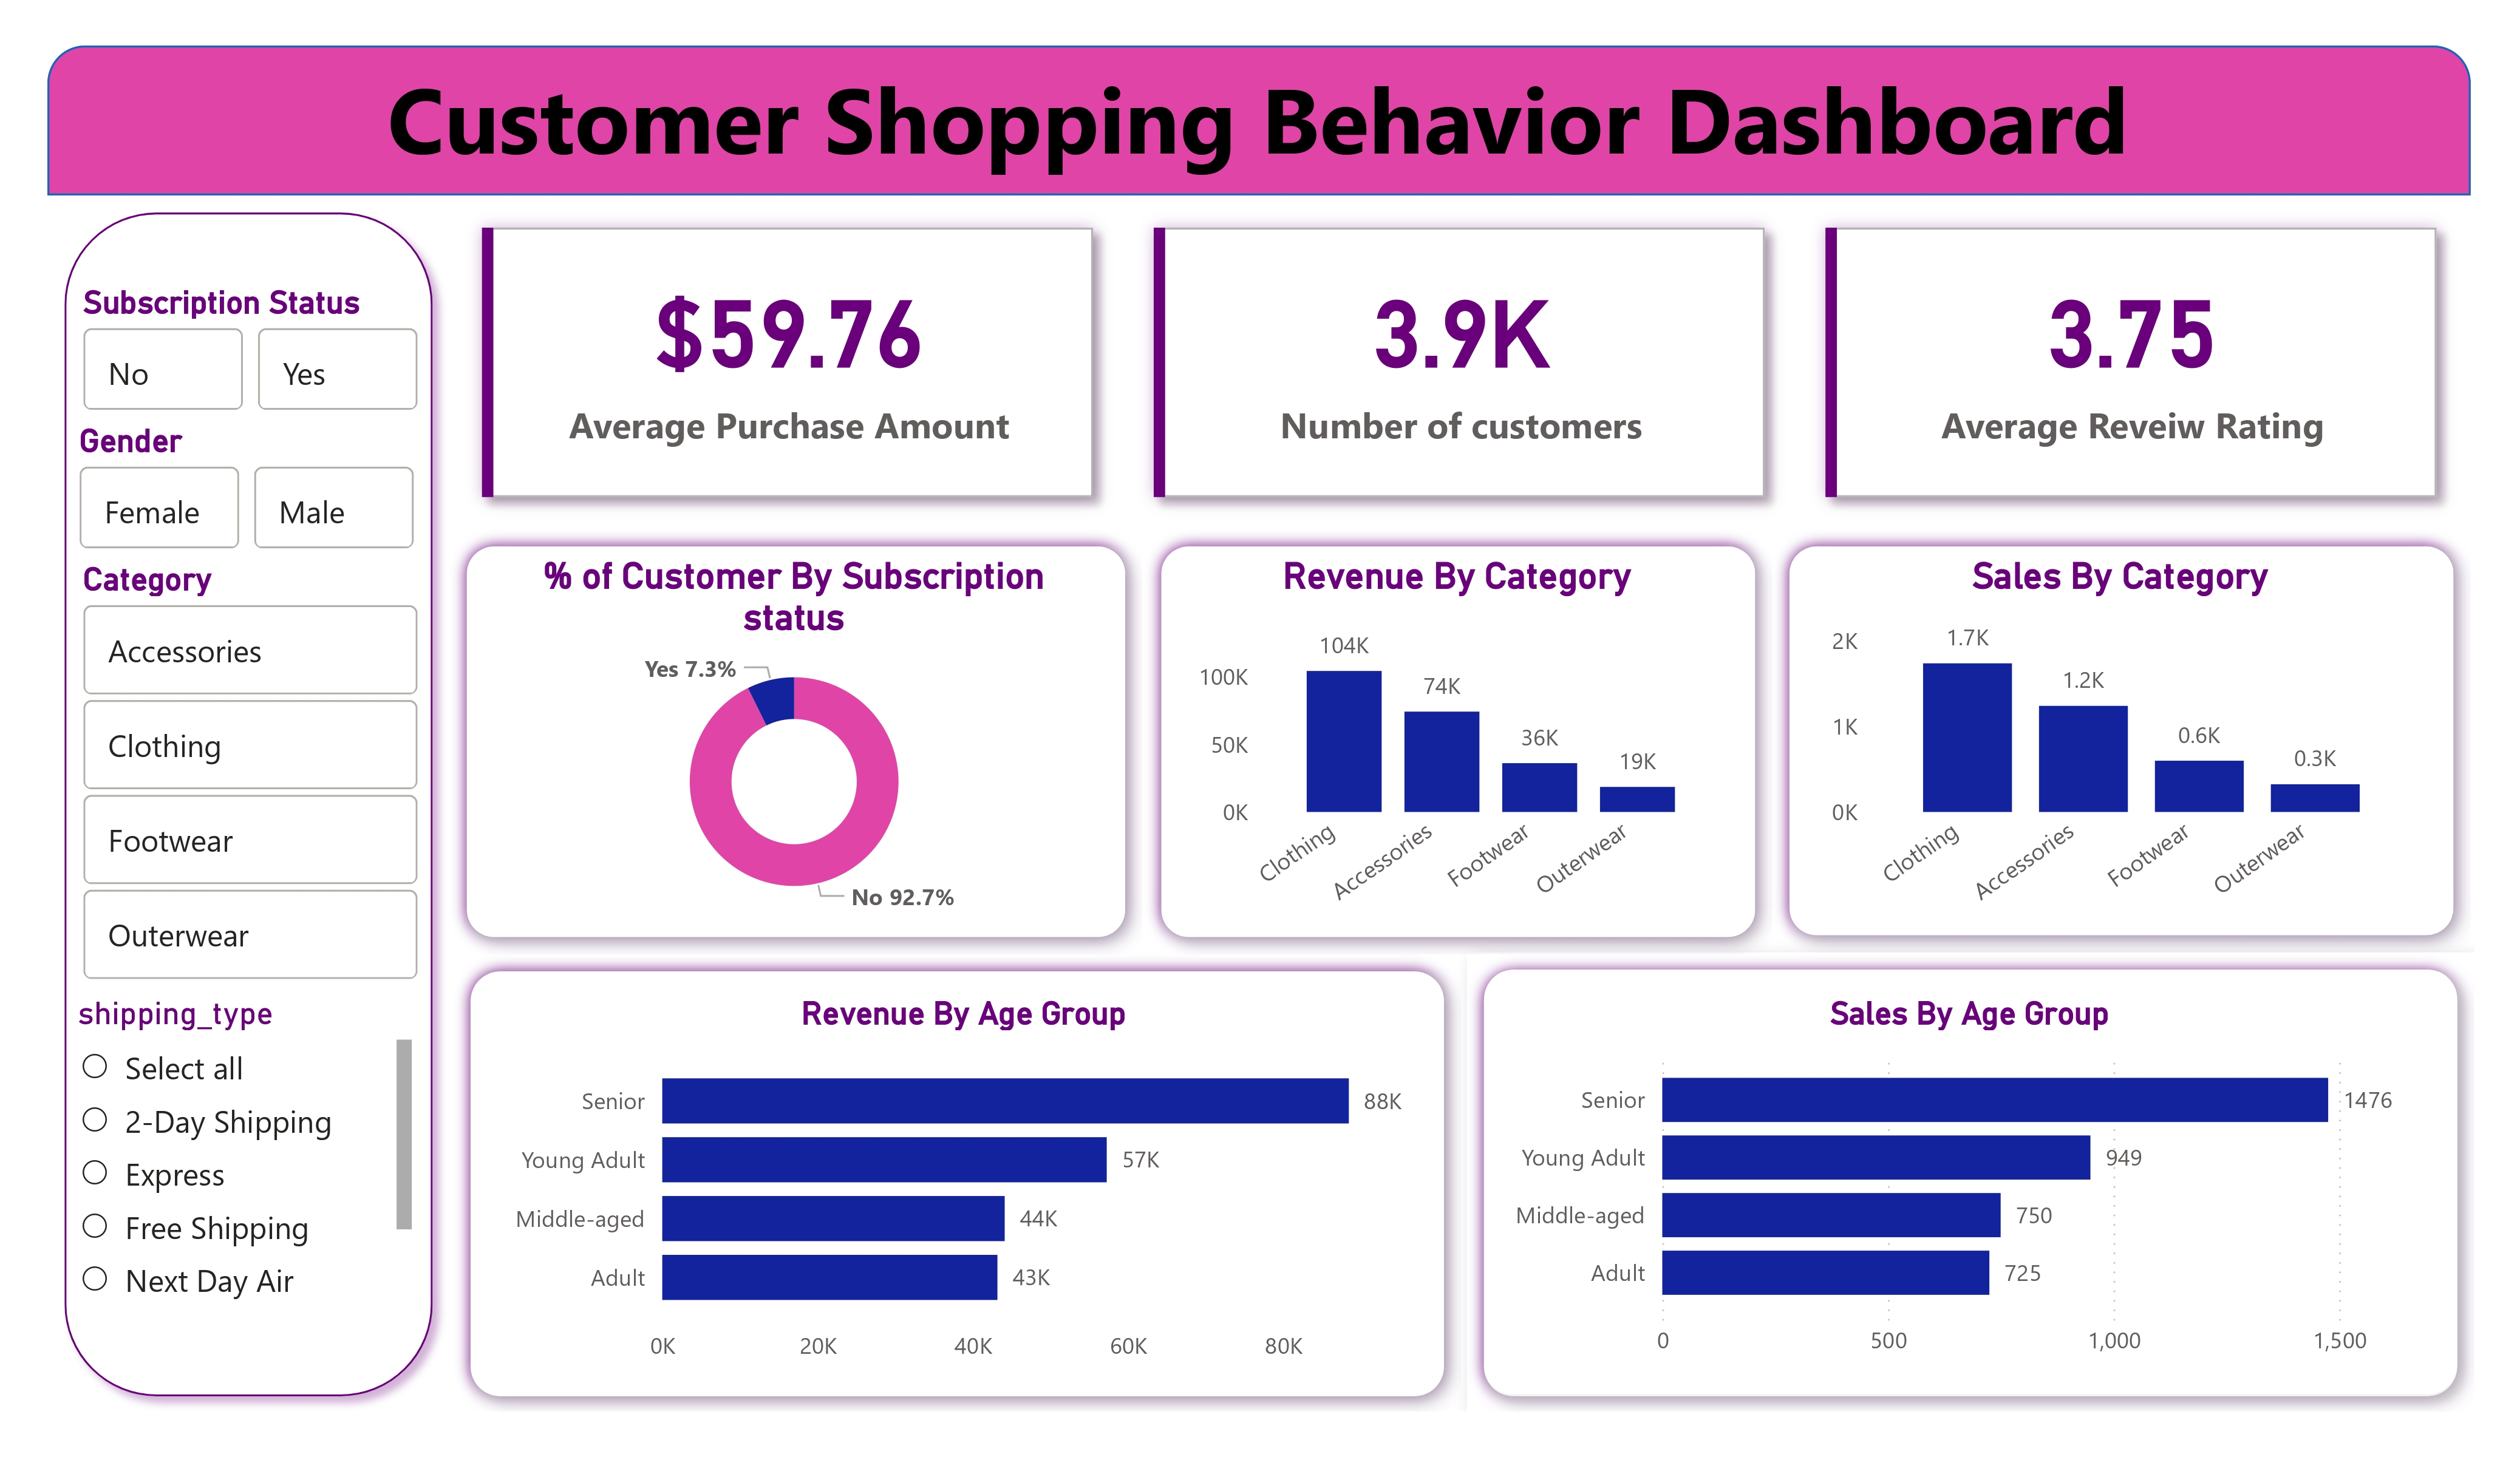

The dashboard page shown, as its layout file describes it:
{"tool":"powerbi","page":{"name":"Page 1","canvas":[1280,720],"ordinal":0},"visuals":[{"type":"cardVisual","fields":{"Data":["public customer.average_purchase_amount","public customer.Number of customers","public customer.average_reveiw_rating"]},"box":[213.3,79.1,1065.1,176],"z":0},{"type":"shape","box":[1.5,0,1276.9,79.1],"z":1000},{"type":"shape","box":[213.3,255.1,365.5,223.8],"z":1500,"group":"g1"},{"type":"shape","box":[578.8,255.1,331.2,223.8],"z":1500,"group":"g2"},{"type":"shape","box":[910,255.1,368.4,223.5],"z":1500,"group":"g3"},{"type":"clusteredColumnChart","title":"Sales By Category","fields":{"Category":["public customer.category"],"Y":["CountNonNull(public customer.customer_id)"]},"box":[935.6,268.2,315.5,195.9],"z":1750,"group":"g3"},{"type":"donutChart","title":"% of Customer By Subscription status","fields":{"Category":["public customer.subscription_status"],"Y":["Sum(public customer.customer_id)"]},"box":[238.7,268.3,313,196.1],"z":1750,"group":"g1"},{"type":"clusteredColumnChart","title":"Revenue By Category","fields":{"Y":["Sum(public customer.purchase_amount)"],"Category":["public customer.category"]},"box":[601.8,268.3,283.7,196.1],"z":1750,"group":"g2"},{"type":"shape","box":[214.8,478.9,531.1,241.7],"z":2000},{"type":"textbox","box":[0,0,1278.4,79.1],"z":3000},{"type":"group","id":"g1","title":"Group 1","box":[213.3,255.1,365.5,223.8],"z":4000},{"type":"group","id":"g2","title":"Group 1","box":[578.8,255.1,331.2,223.8],"z":5000},{"type":"group","id":"g3","title":"Group 1","box":[910,255.1,368.5,223.8],"z":6000},{"type":"shape","box":[1.5,79.1,211.8,641.5],"z":7000},{"type":"advancedSlicerVisual","title":"Subscription Status","fields":{"Values":["public customer.subscription_status"]},"box":[14.9,125.3,186,73.1],"z":8000},{"type":"advancedSlicerVisual","title":"Gender","fields":{"Values":["public customer.gender"]},"box":[13.4,198.4,186.5,73],"z":9000},{"type":"advancedSlicerVisual","title":"Category","fields":{"Values":["public customer.category"]},"box":[14.9,271.5,186.5,228.2],"z":10000},{"type":"listSlicer","fields":{"Values":["public customer.shipping_type"]},"box":[11.9,499.7,186.5,171.6],"z":11000},{"type":"clusteredBarChart","title":"Revenue By Age Group","fields":{"Category":["public customer.age_group"],"Y":["Sum(public customer.purchase_amount)"]},"box":[237.2,499.7,493.8,204.4],"z":12000},{"type":"shape","box":[748.9,478.9,531.1,241.7],"z":13000},{"type":"shape","box":[748.9,478.3,531.1,241.7],"z":14000},{"type":"clusteredBarChart","title":"Sales By Age Group","fields":{"Category":["public customer.age_group"],"Y":["CountNonNull(public customer.customer_id)"]},"box":[763.8,499.7,499.7,201.4],"z":16000}]}

Visuals, with their boxes in screenshot pixels (x1, y1, x2, y2):
cardVisual - public customer.average_purchase_amount x public customer.Number of customers: {"x1": 465, "y1": 188, "x2": 2460, "y2": 517}
shape: {"x1": 69, "y1": 39, "x2": 2460, "y2": 188}
shape: {"x1": 465, "y1": 517, "x2": 1149, "y2": 936}
shape: {"x1": 1149, "y1": 517, "x2": 1770, "y2": 936}
shape: {"x1": 1770, "y1": 517, "x2": 2460, "y2": 936}
"Sales By Category" clusteredColumnChart: {"x1": 1817, "y1": 542, "x2": 2408, "y2": 908}
"% of Customer By Subscription status" donutChart: {"x1": 513, "y1": 542, "x2": 1099, "y2": 909}
"Revenue By Category" clusteredColumnChart: {"x1": 1193, "y1": 542, "x2": 1724, "y2": 909}
shape: {"x1": 468, "y1": 936, "x2": 1462, "y2": 1388}
textbox: {"x1": 66, "y1": 39, "x2": 2460, "y2": 188}
"Group 1" group: {"x1": 465, "y1": 517, "x2": 1149, "y2": 936}
"Group 1" group: {"x1": 1149, "y1": 517, "x2": 1770, "y2": 936}
"Group 1" group: {"x1": 1770, "y1": 517, "x2": 2460, "y2": 936}
shape: {"x1": 69, "y1": 188, "x2": 465, "y2": 1388}
"Subscription Status" advancedSlicerVisual: {"x1": 94, "y1": 274, "x2": 442, "y2": 411}
"Gender" advancedSlicerVisual: {"x1": 90, "y1": 411, "x2": 440, "y2": 548}
"Category" advancedSlicerVisual: {"x1": 94, "y1": 548, "x2": 443, "y2": 975}
listSlicer - public customer.shipping_type: {"x1": 88, "y1": 975, "x2": 437, "y2": 1296}
"Revenue By Age Group" clusteredBarChart: {"x1": 510, "y1": 975, "x2": 1434, "y2": 1357}
shape: {"x1": 1468, "y1": 936, "x2": 2463, "y2": 1388}
shape: {"x1": 1468, "y1": 935, "x2": 2463, "y2": 1387}
"Sales By Age Group" clusteredBarChart: {"x1": 1496, "y1": 975, "x2": 2432, "y2": 1352}
